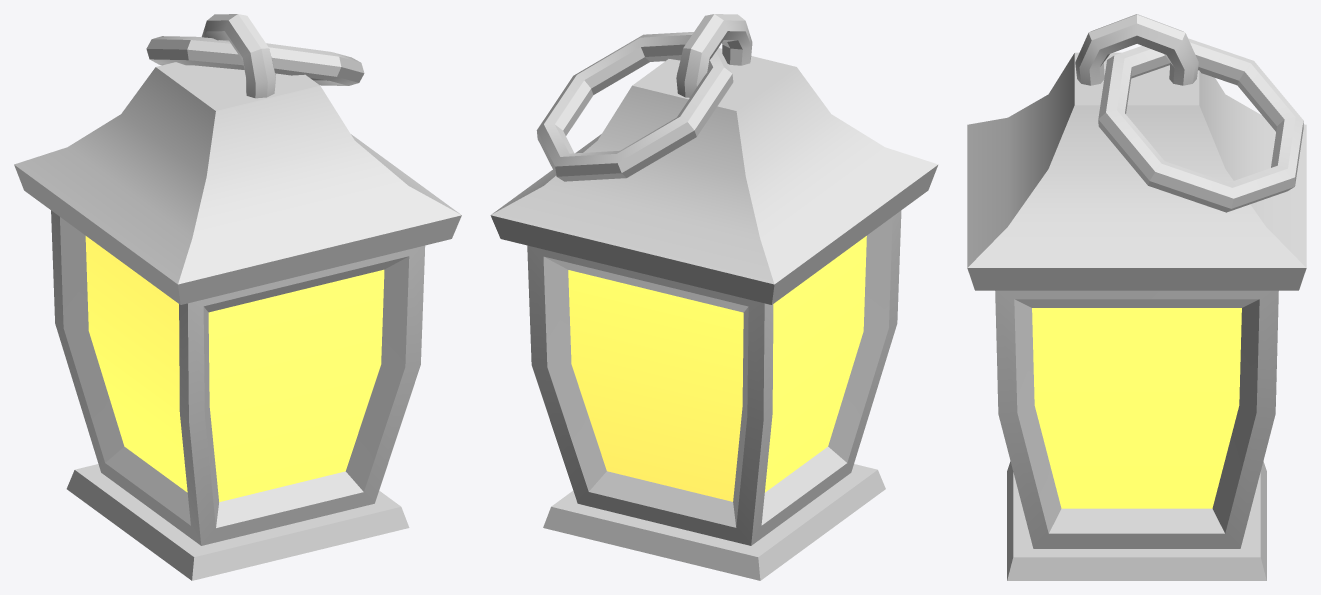
File: Lantern-Single.fbx
3 views of the same model, side by side, from view 1: azimuth 30°, elevation 25°; view 2: azimuth 150°, elevation 25°; view 3: azimuth 270°, elevation 25° (orthographic). The views are drawn at different scales.
Parts seen in each view (by area): view 1: Lanter_Hold; view 2: Lanter_Hold; view 3: Lanter_Hold.
Part boxes in pixels (bbox=[...]): Lanter_Hold: bbox=[14, 14, 461, 580]; Lanter_Hold: bbox=[490, 14, 938, 580]; Lanter_Hold: bbox=[967, 14, 1306, 580].
Size of the model in its own units: 30.54 by 50.81 by 30.54.
